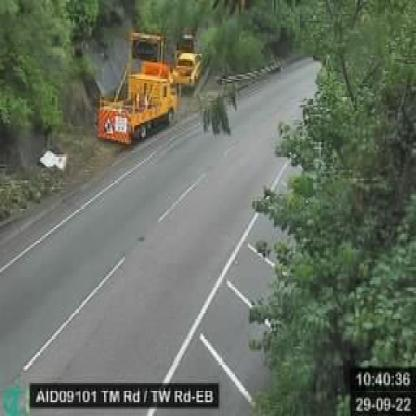Truck: (95, 59, 179, 144)
